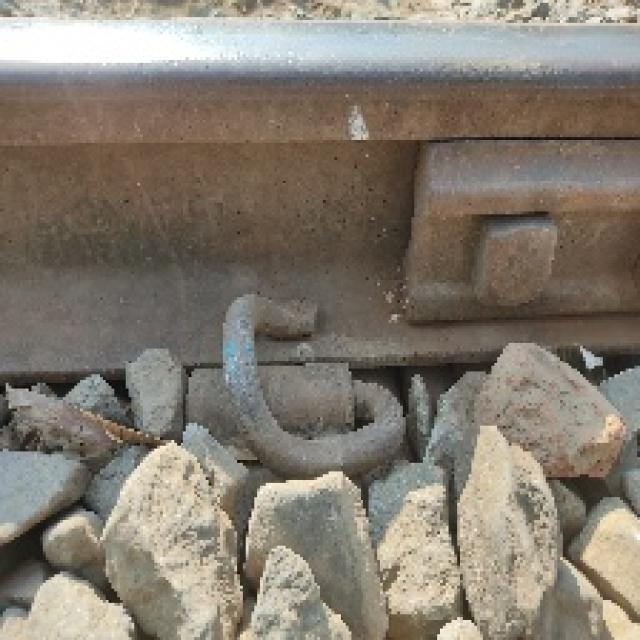Good Fasteners: (186, 294, 403, 474)
